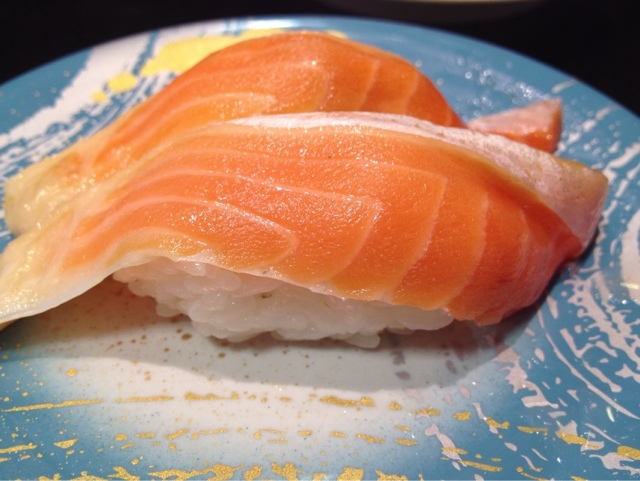salmon: (17, 33, 606, 343)
